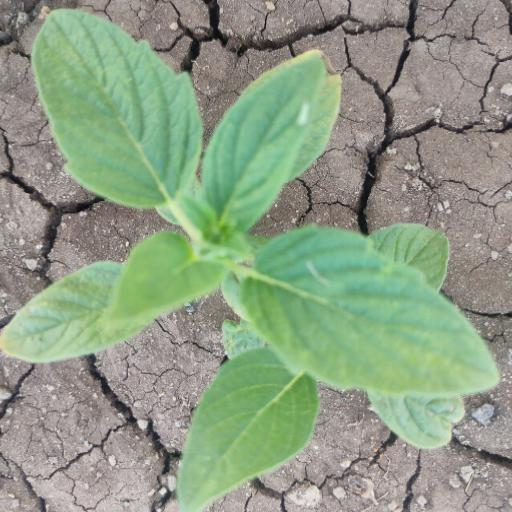crop: (9, 1, 502, 512)
